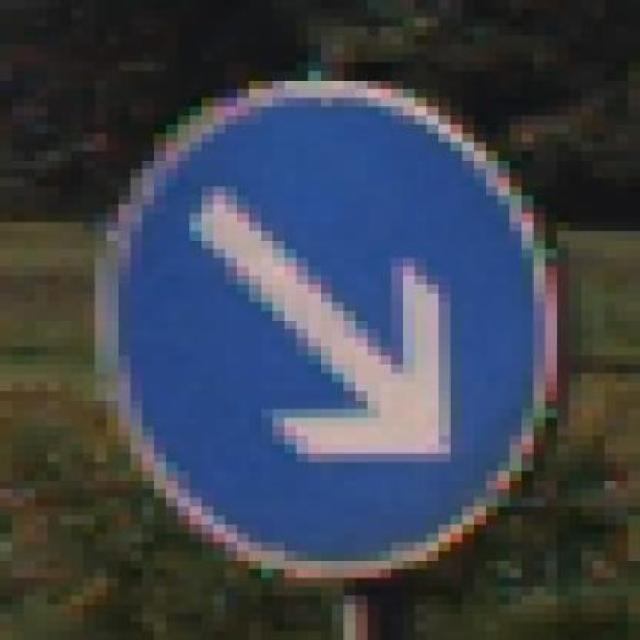Keep-Right: (71, 71, 592, 614)
